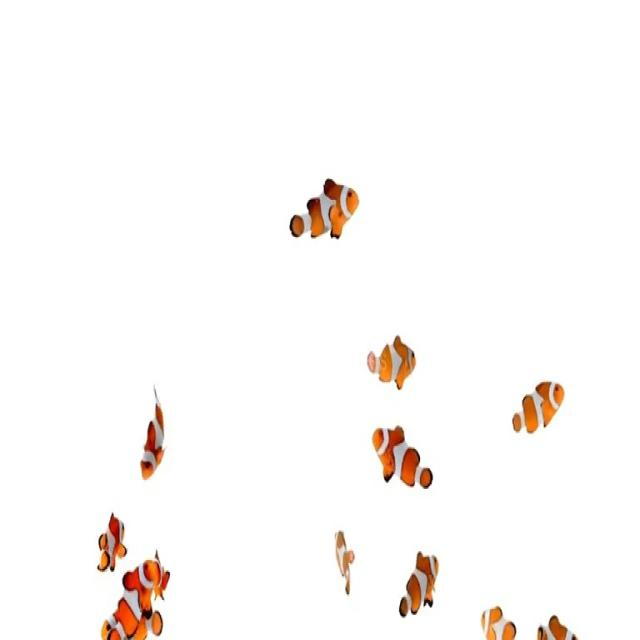fish: (498, 373, 578, 462), (364, 423, 446, 509), (284, 170, 371, 251), (357, 326, 430, 409), (385, 536, 448, 625), (126, 384, 180, 483), (115, 555, 183, 613), (87, 594, 165, 640), (89, 504, 130, 580), (328, 519, 360, 612), (478, 582, 522, 640), (532, 607, 578, 640)
